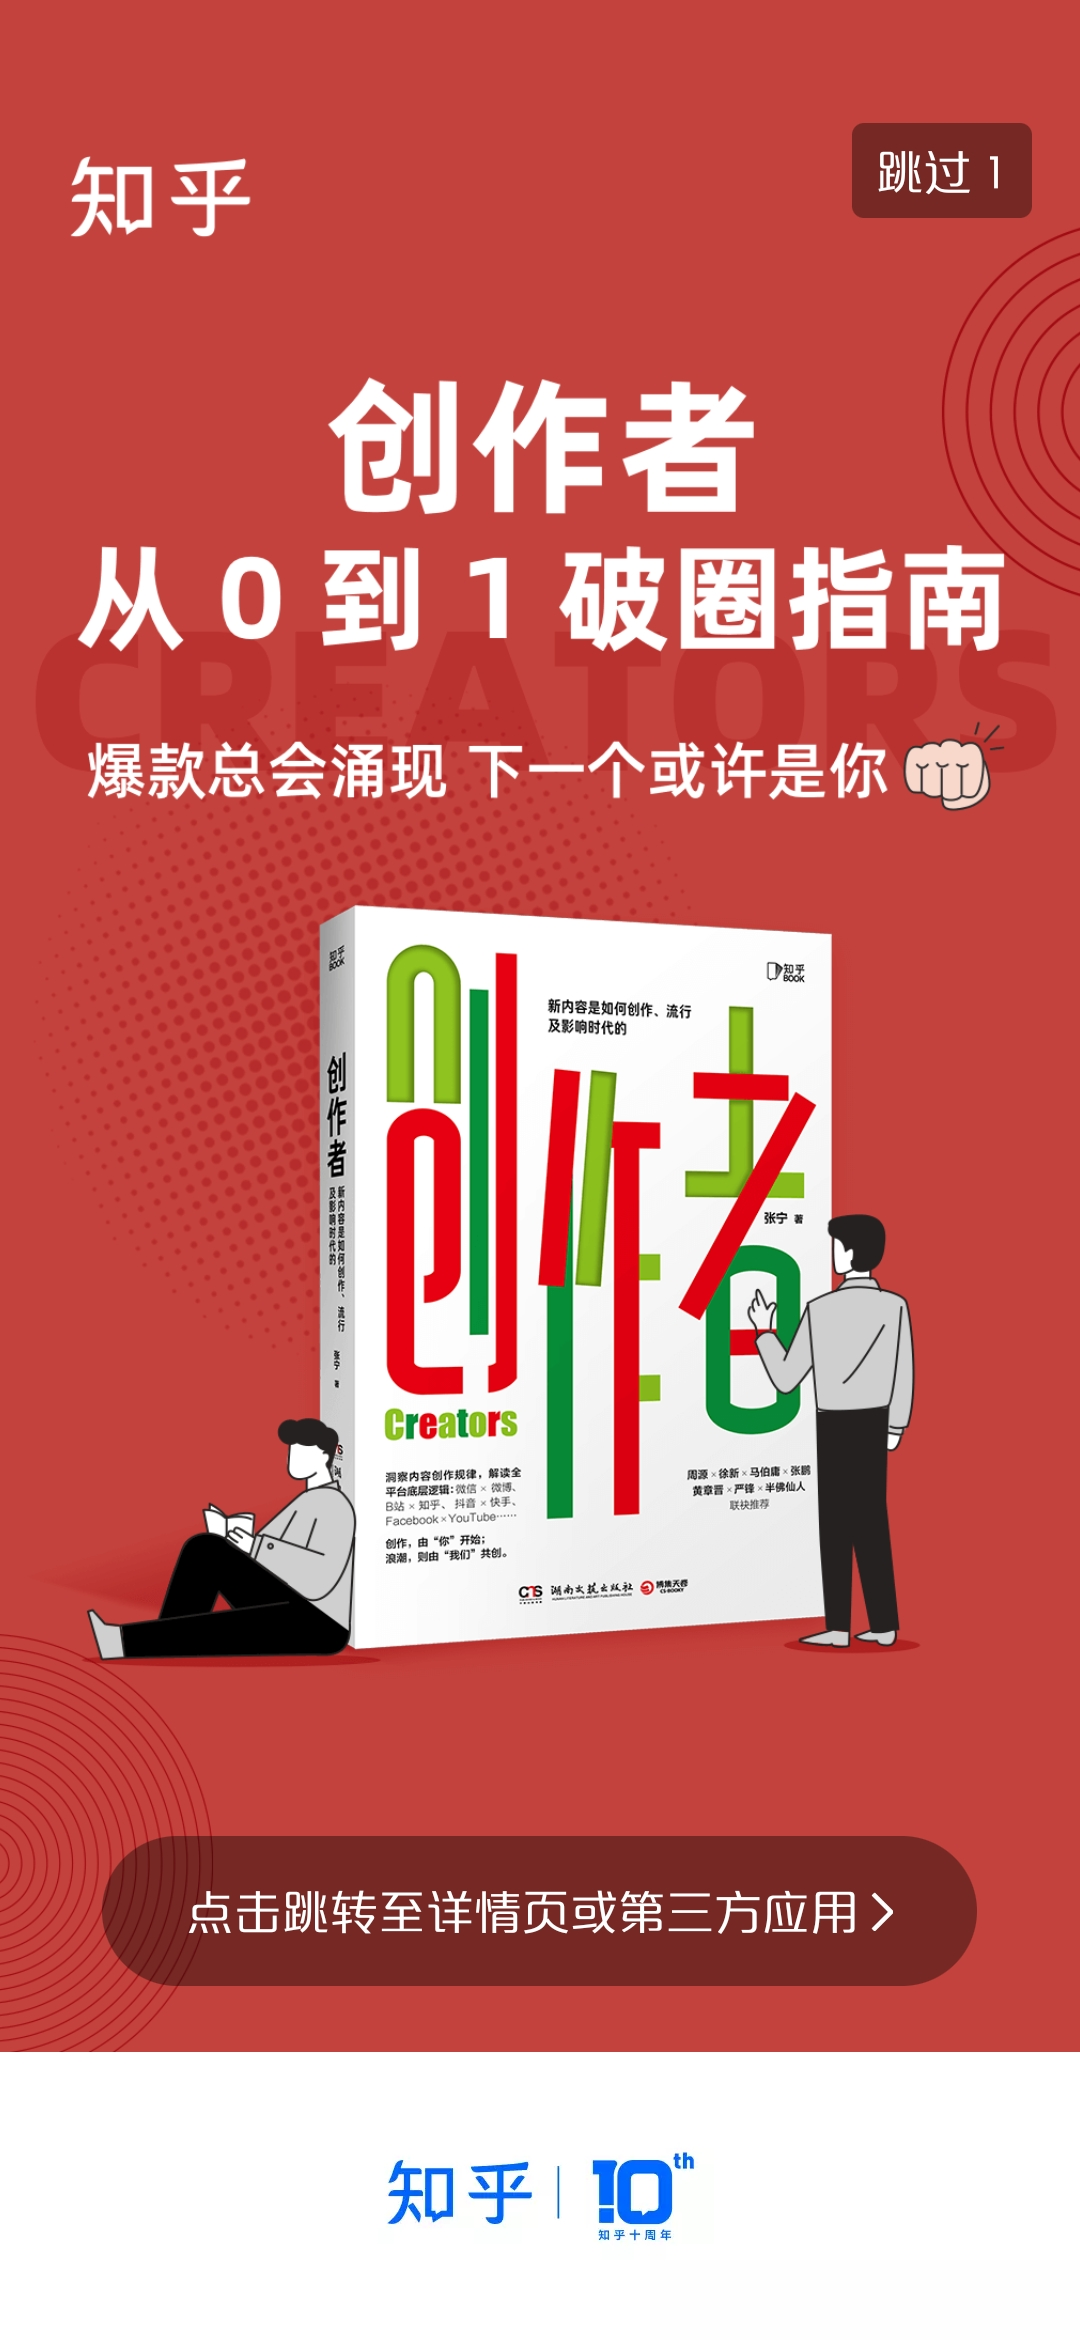skip: (858, 124, 1019, 216)
